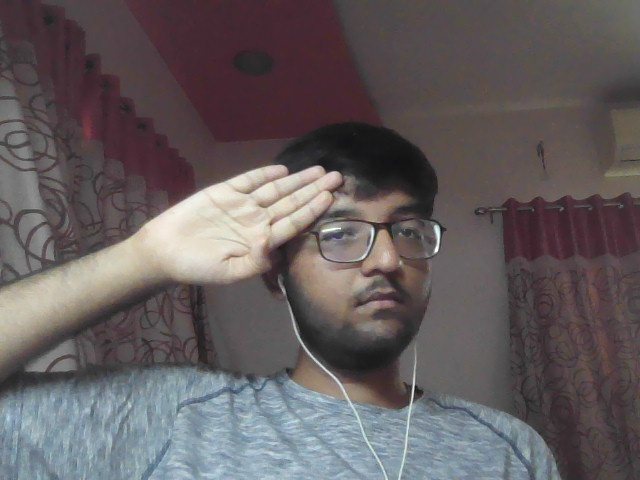નમસ્તે: (90, 141, 359, 296)
